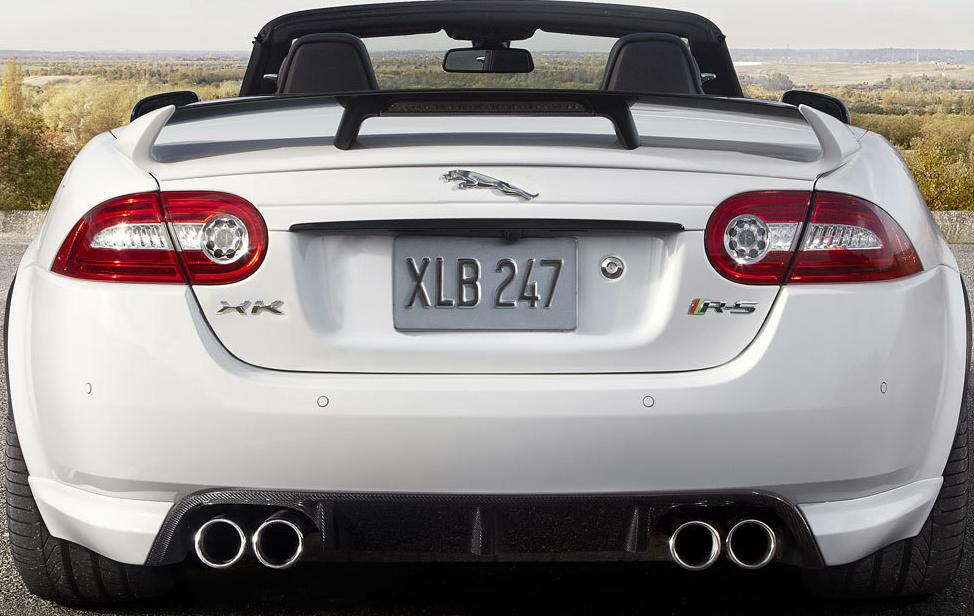back_view: (52, 96, 951, 575)
backlight: (47, 189, 271, 290)
